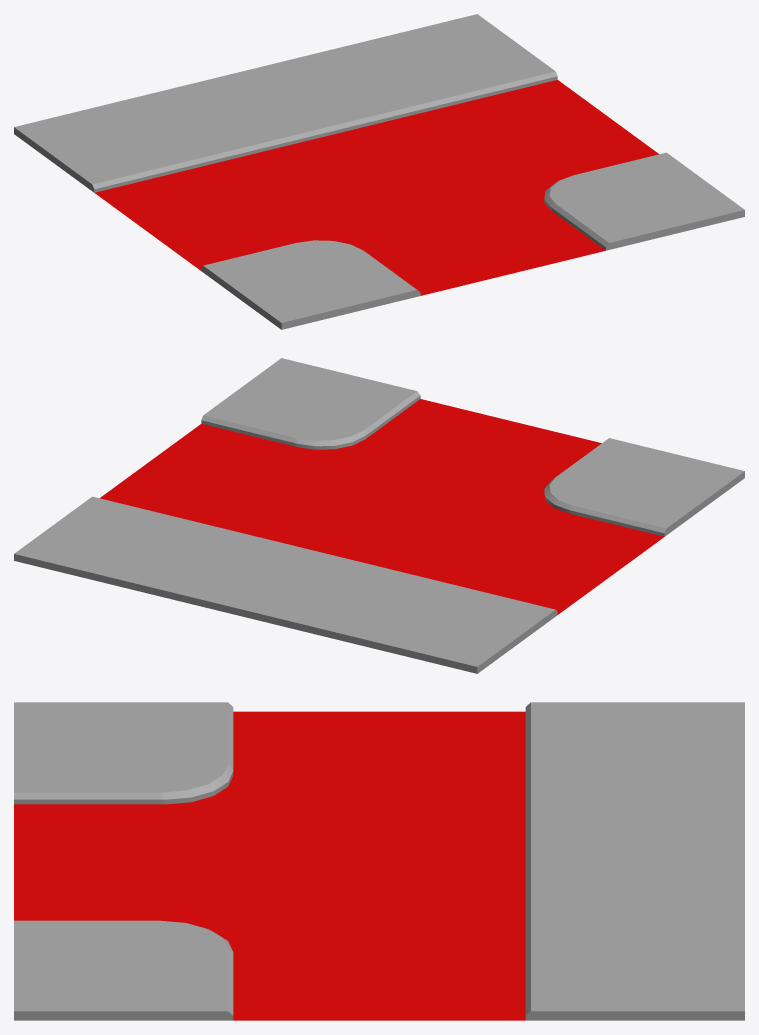
Rendered from T-tile.fbx.
3 renders of one model, top to bottom at view 1: azimuth 30°, elevation 25°; view 2: azimuth 150°, elevation 25°; view 3: azimuth 270°, elevation 25°, orthographic. The views are drawn at different scales.
Parts seen in each view (by area): view 1: pasted__T_tile1; view 2: pasted__T_tile1; view 3: pasted__T_tile1.
Part boxes in pixels (x1=…): pasted__T_tile1: x1=14, y1=14, x2=744, y2=329; pasted__T_tile1: x1=14, y1=358, x2=744, y2=673; pasted__T_tile1: x1=14, y1=702, x2=744, y2=1020.
Size of the model in its own units: 1300 by 18.69 by 1300.
